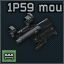KMZ 1P59 Dovetail mount: (0, 0, 64, 64)
